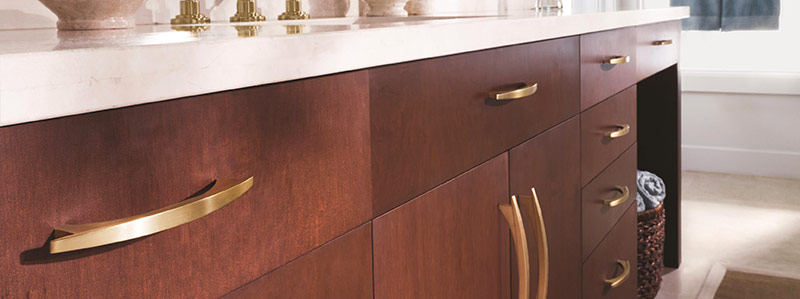cabinet door: (24, 120, 367, 240), (376, 173, 505, 299), (504, 137, 585, 299), (384, 62, 586, 125), (574, 157, 644, 229), (578, 230, 642, 298), (574, 34, 636, 91), (584, 103, 639, 151), (631, 26, 682, 68)
handle: (40, 177, 262, 255), (489, 192, 536, 299), (519, 181, 556, 299), (485, 76, 545, 100), (594, 115, 632, 143), (607, 254, 634, 293), (602, 179, 636, 208), (603, 53, 635, 68), (645, 37, 676, 49)
